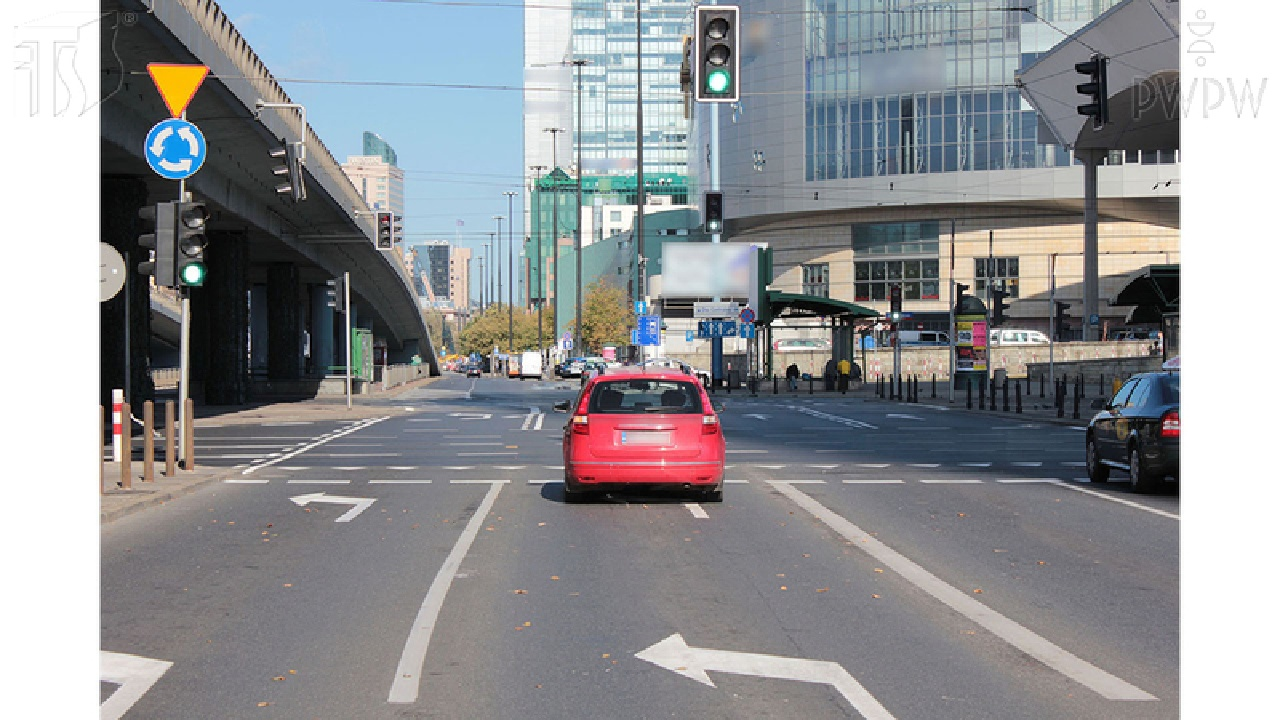A7: (146, 62, 212, 120)
C12: (143, 118, 207, 181)
Green: (703, 9, 732, 98), (179, 202, 205, 287)
